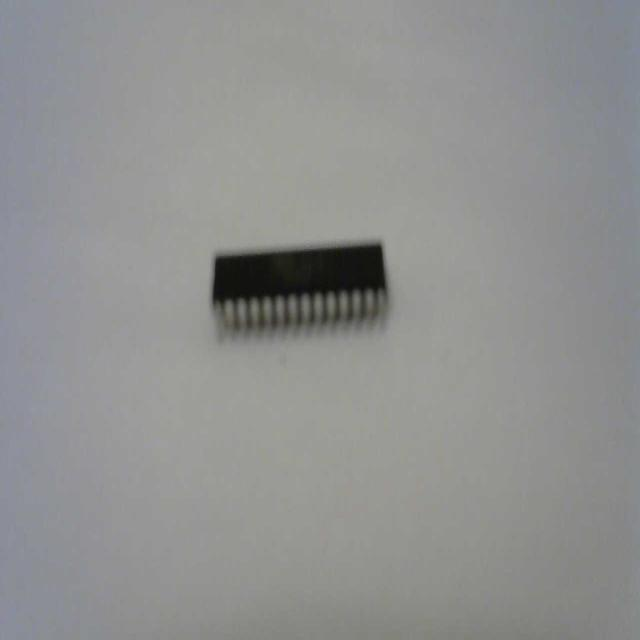atmega: (209, 236, 391, 346)
